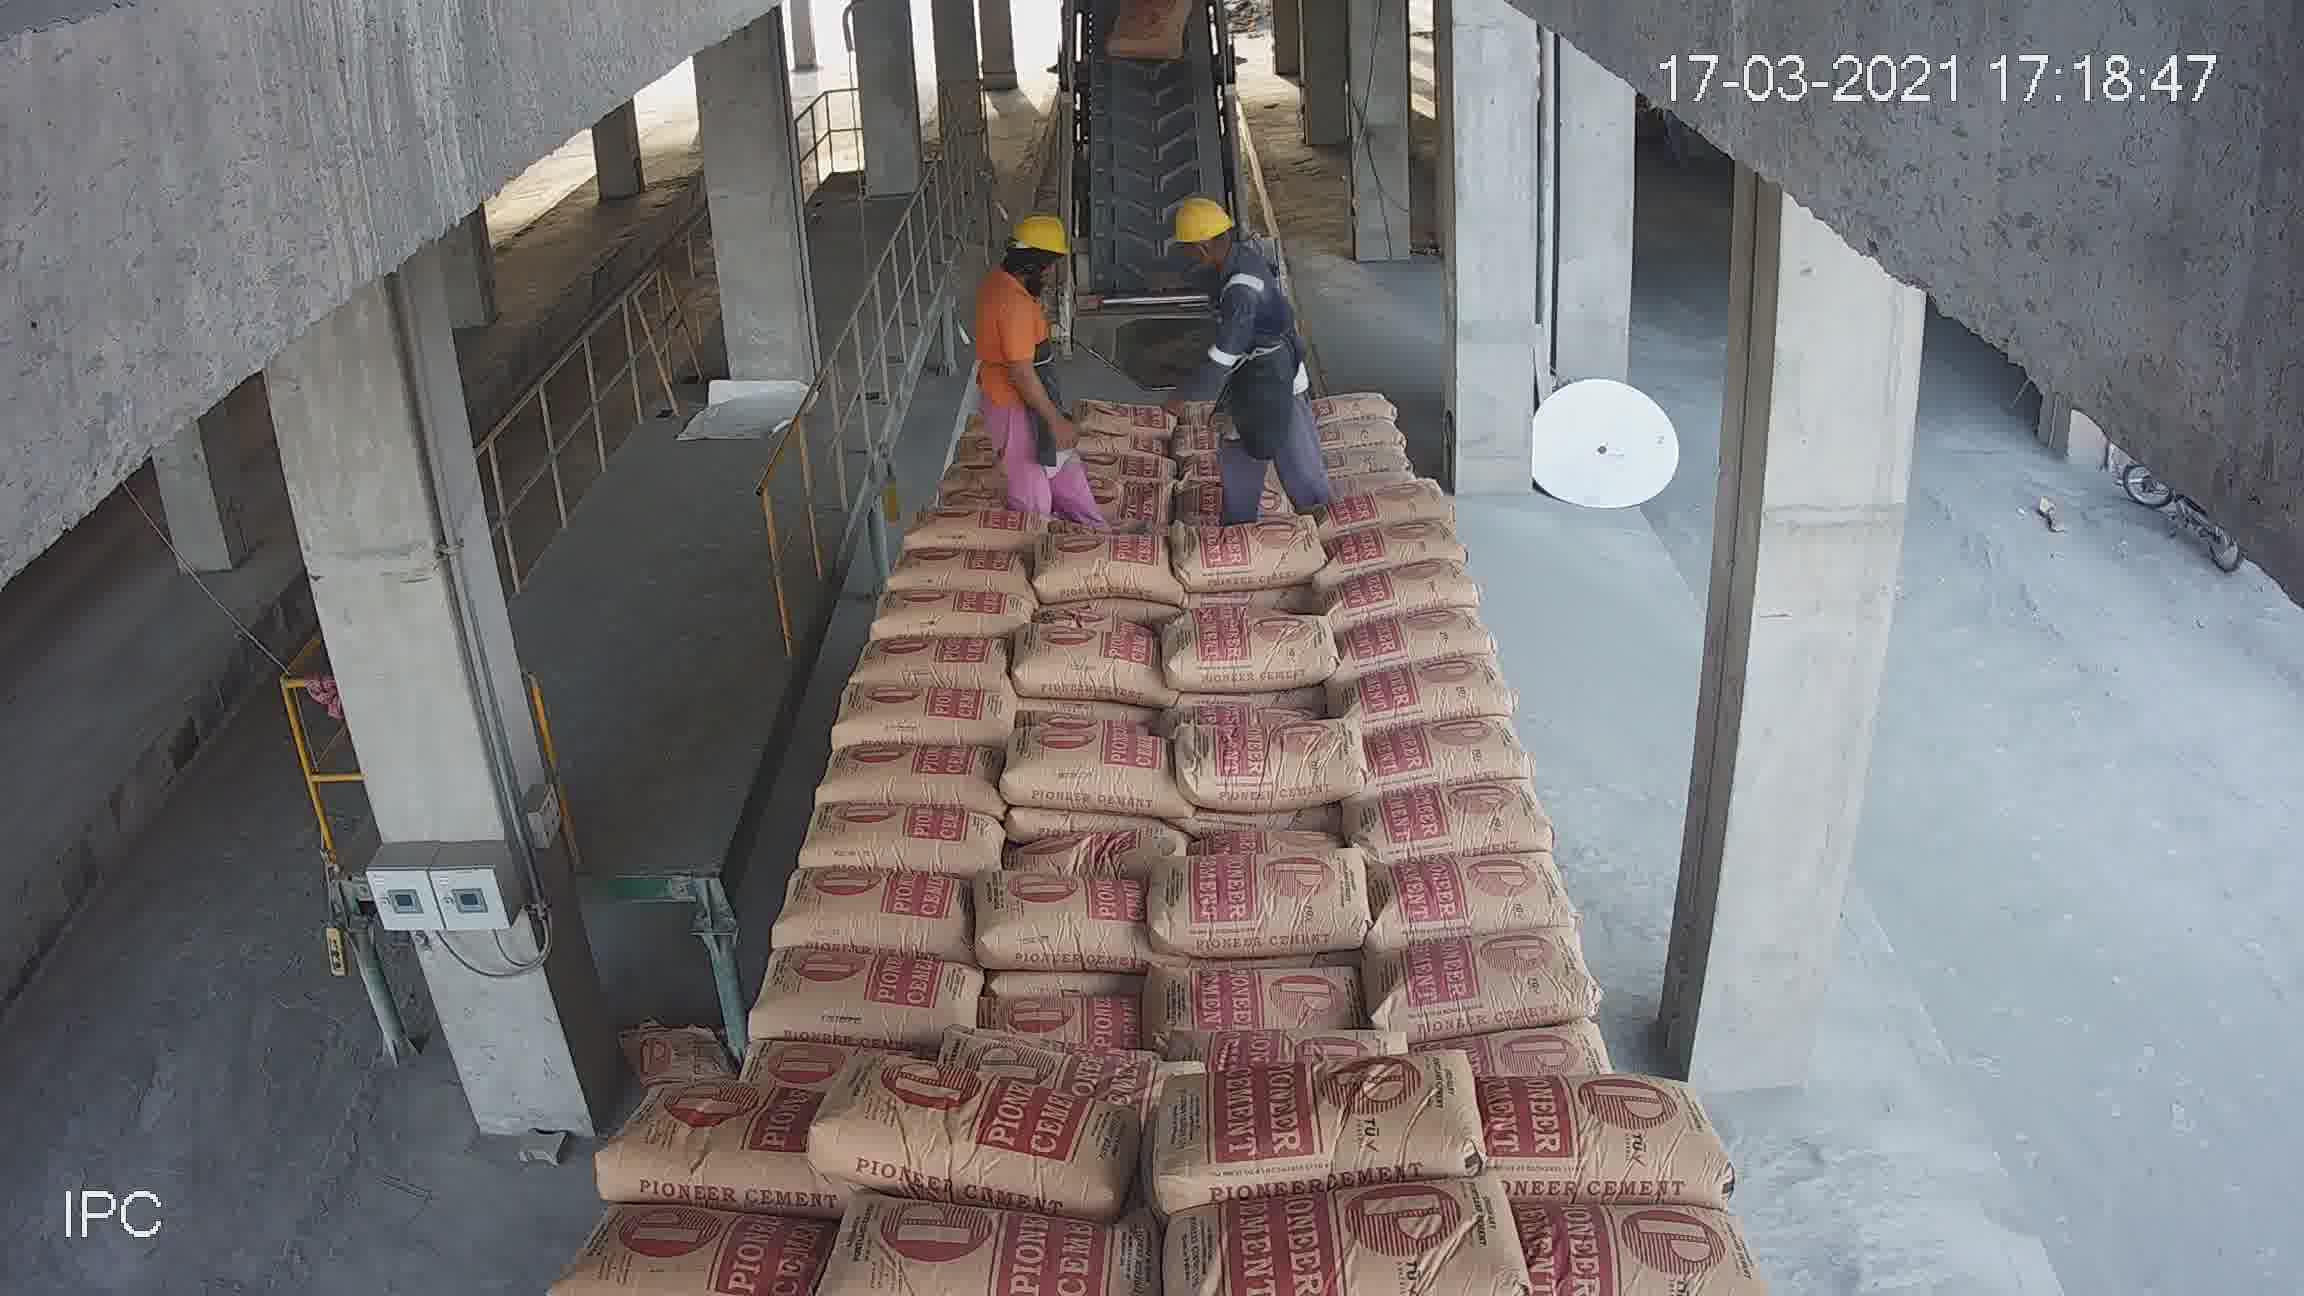bag: (1112, 6, 1192, 65)
bag_h: (805, 1033, 1150, 1207), (1130, 1036, 1478, 1201), (1161, 1173, 1524, 1291), (1374, 921, 1620, 1052), (1513, 1177, 1769, 1293), (557, 1184, 817, 1294), (755, 930, 972, 1055), (1481, 1082, 1706, 1199), (829, 1207, 1139, 1290), (1154, 831, 1367, 949), (592, 1086, 812, 1199), (1367, 831, 1586, 945), (1362, 766, 1552, 872), (967, 869, 1161, 970), (1165, 714, 1358, 813), (1143, 946, 1370, 1027), (1347, 714, 1552, 794), (828, 665, 1014, 753), (771, 878, 970, 961), (1339, 658, 1519, 747), (1180, 1010, 1426, 1074), (783, 805, 1000, 878), (805, 745, 995, 824), (1006, 731, 1195, 810), (1163, 612, 1351, 692), (926, 1021, 1165, 1079), (1315, 606, 1505, 679), (1168, 510, 1331, 593), (1321, 549, 1483, 627), (1472, 1002, 1608, 1093), (1022, 513, 1166, 597), (1021, 809, 1184, 878), (981, 980, 1135, 1046), (834, 631, 1006, 688), (999, 630, 1157, 692), (1317, 473, 1465, 536), (1328, 521, 1468, 582), (1067, 456, 1177, 529), (891, 489, 1036, 543), (869, 589, 1027, 635), (881, 541, 1025, 590), (1070, 377, 1174, 441), (1079, 418, 1174, 468), (1324, 372, 1404, 430), (1309, 449, 1421, 484), (1301, 423, 1416, 456)
belt: (1063, 24, 1237, 348)
